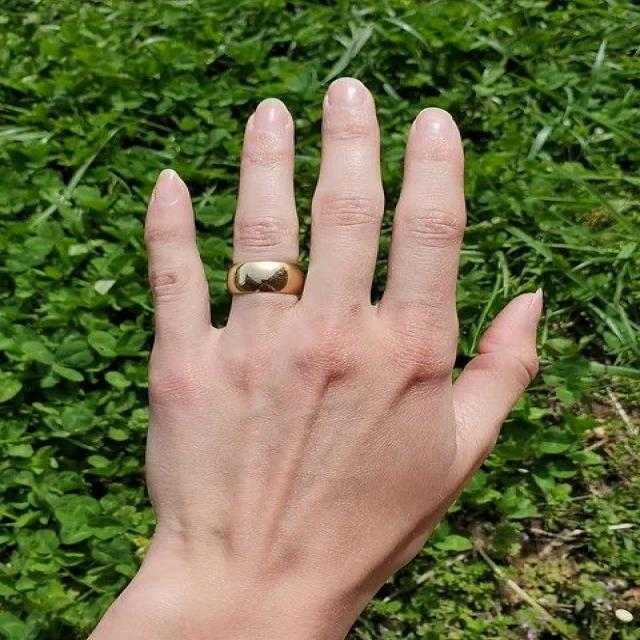Fingernail: (255, 98, 288, 134), (328, 79, 366, 110), (417, 109, 450, 138), (154, 169, 179, 206), (531, 289, 542, 320)
